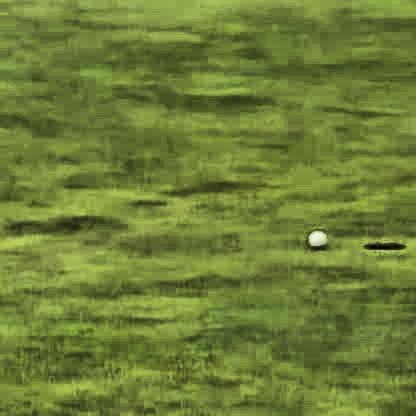golfball: (305, 227, 323, 245)
